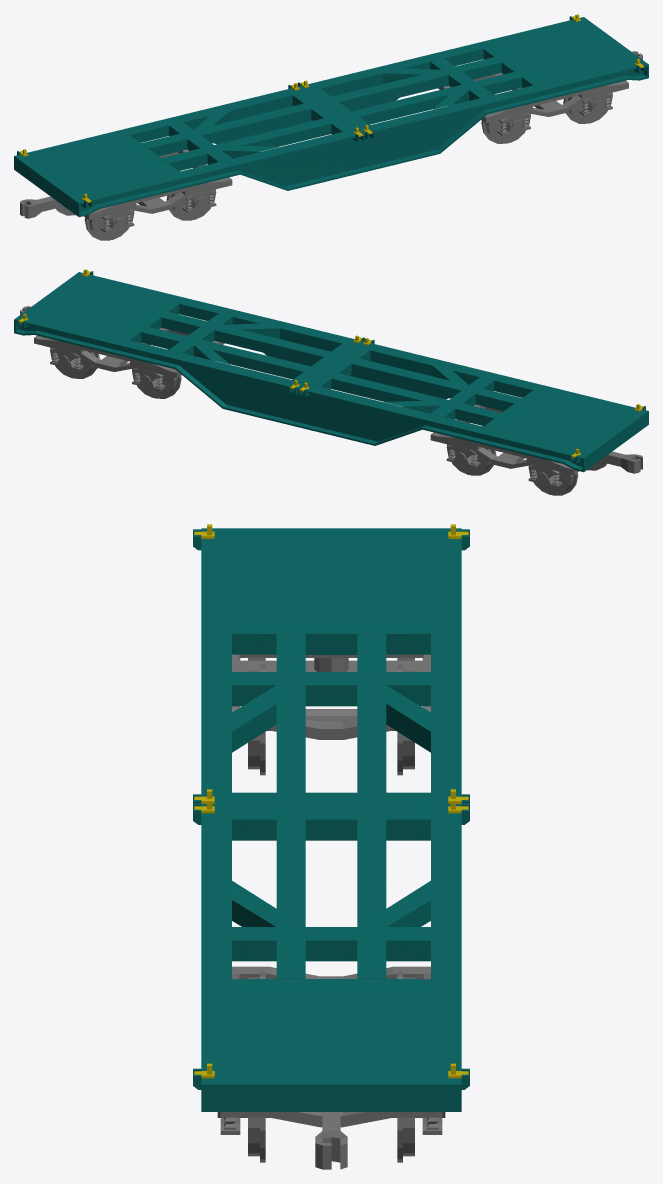
Rendered from Container_Europe.glb.
The picture shows the model from 3 angles, top to bottom: view 1: azimuth 30°, elevation 25°; view 2: azimuth 150°, elevation 25°; view 3: azimuth 270°, elevation 25°; orthographic projection. The views are drawn at different scales.
Visible parts, largest first — view 1: Container_Europe_Hull, Container_Europe_Bogie_2, Container_Europe_Bogie_1, Container_Europe_Coupler_Back; view 2: Container_Europe_Hull, Container_Europe_Bogie_2, Container_Europe_Bogie_1, Container_Europe_Coupler_Back; view 3: Container_Europe_Hull, Container_Europe_Bogie_2, Container_Europe_Bogie_1, Container_Europe_Coupler_Front.
Part boxes in pixels (<box>): Container_Europe_Hull: <box>14,14,648,217</box>; Container_Europe_Bogie_2: <box>56,149,232,240</box>; Container_Europe_Bogie_1: <box>438,73,628,143</box>; Container_Europe_Coupler_Back: <box>20,196,63,218</box>; Container_Europe_Hull: <box>14,269,648,472</box>; Container_Europe_Bogie_2: <box>430,404,606,495</box>; Container_Europe_Bogie_1: <box>34,328,224,398</box>; Container_Europe_Coupler_Back: <box>599,451,642,473</box>; Container_Europe_Hull: <box>193,524,469,1111</box>; Container_Europe_Bogie_2: <box>232,654,430,775</box>; Container_Europe_Bogie_1: <box>217,966,445,1162</box>; Container_Europe_Coupler_Front: <box>315,1112,347,1169</box>.
Bounding box in the file's own units: 1.34 × 0.1332 × 0.2603.
2 materials, 1 textured.
